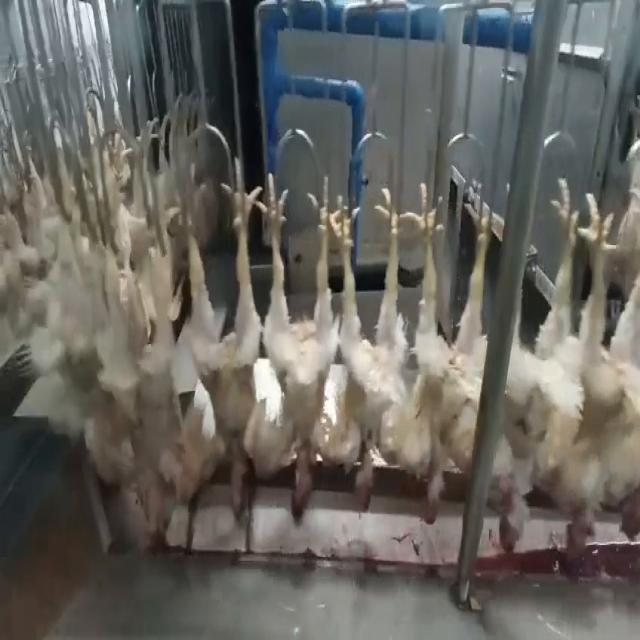chicken: (499, 167, 592, 559), (323, 181, 419, 511), (402, 178, 491, 526), (256, 176, 341, 527), (182, 148, 255, 544), (589, 194, 638, 547)
